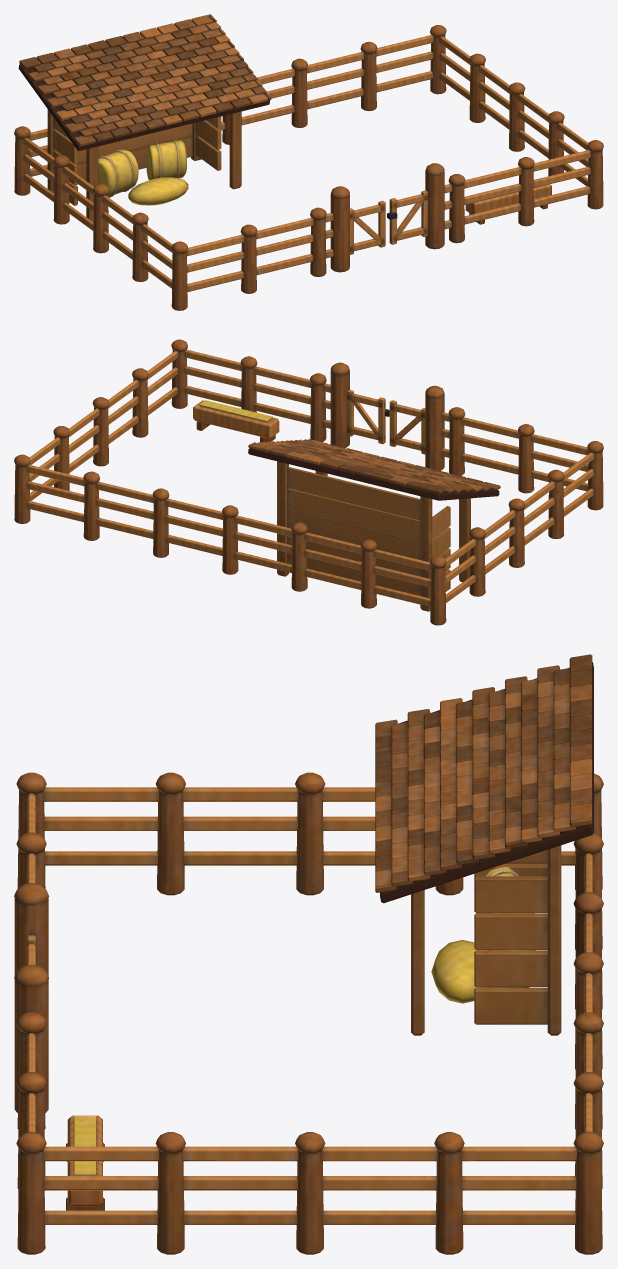
File: jersey_pasture.glb
The picture shows the model from 3 angles, top to bottom: view 1: azimuth 30°, elevation 25°; view 2: azimuth 150°, elevation 25°; view 3: azimuth 270°, elevation 25°; orthographic projection. The views are drawn at different scales.
Parts seen in each view (by area): view 1: jersey_pasture, gate1, gate0; view 2: jersey_pasture, gate1, gate0; view 3: jersey_pasture.
Boxes of the visible parts, x1,y1,x2,y2 form: jersey_pasture: [14, 14, 603, 310]; gate1: [387, 190, 428, 244]; gate0: [350, 200, 385, 254]; jersey_pasture: [14, 339, 603, 625]; gate1: [347, 389, 389, 444]; gate0: [389, 400, 425, 454]; jersey_pasture: [14, 654, 603, 1254].
Size of the model in its own units: 3 by 0.9343 by 2.01.
Materials: 1 (1 with a texture image).
